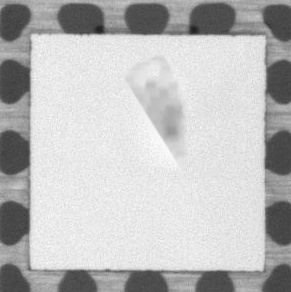DIE_INK: (119, 48, 188, 177)
